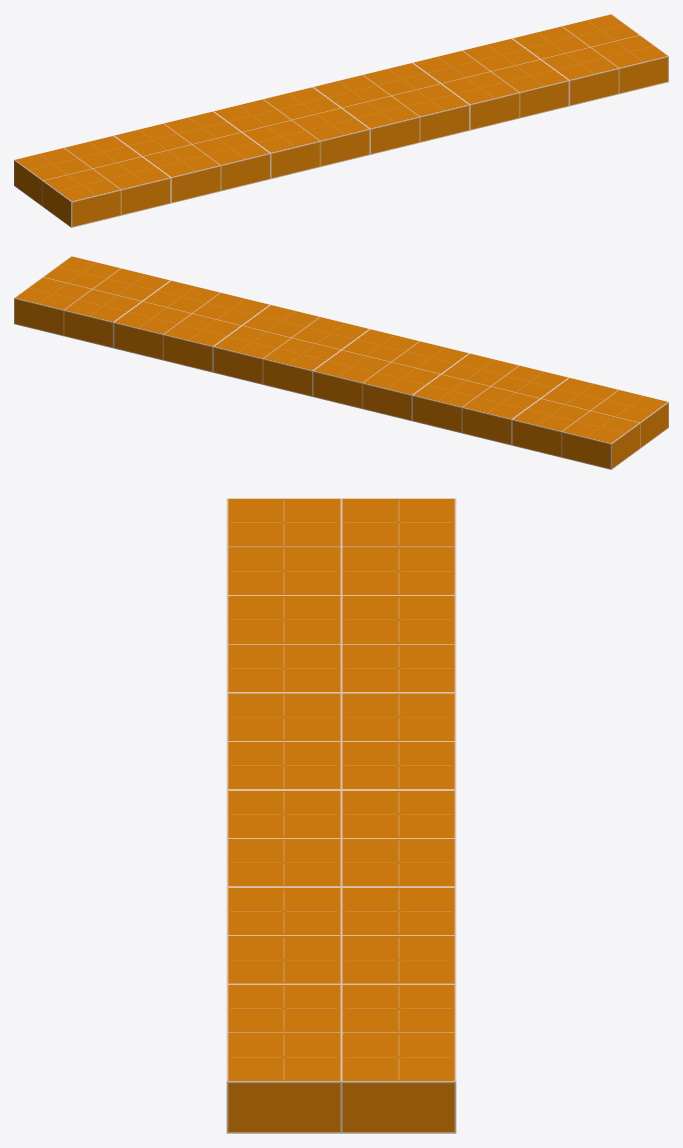
The model's file is Plate4_6x1.obj.
3 views of the same model, one above another, from view 1: azimuth 30°, elevation 25°; view 2: azimuth 150°, elevation 25°; view 3: azimuth 270°, elevation 25° (orthographic). The views are drawn at different scales.
Parts seen in each view (by area): view 1: Plate4_6x1_Cube.344; view 2: Plate4_6x1_Cube.344; view 3: Plate4_6x1_Cube.344.
Boxes of the visible parts, box(x1,y1,x2,y2) form: Plate4_6x1_Cube.344: box(14, 14, 668, 227); Plate4_6x1_Cube.344: box(14, 256, 668, 469); Plate4_6x1_Cube.344: box(226, 498, 456, 1133).
Size of the model in its own units: 6 by 0.25 by 1.
Materials: 1 (1 with a texture image).
